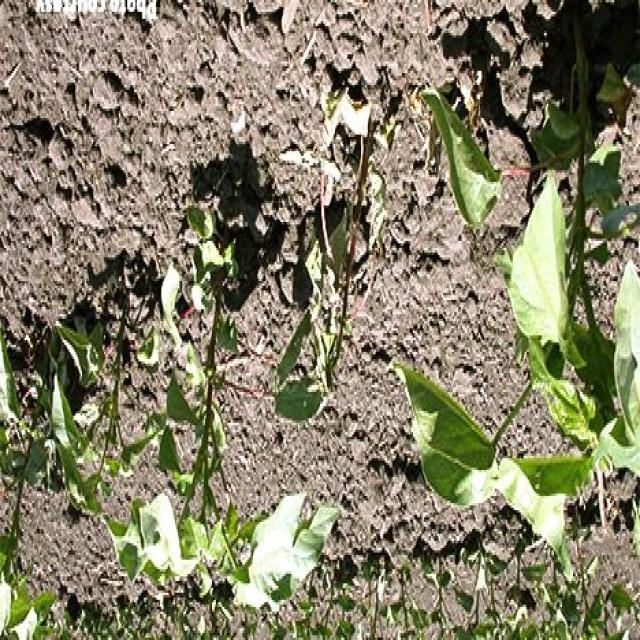Fusarium Wilt: (11, 22, 640, 640)
